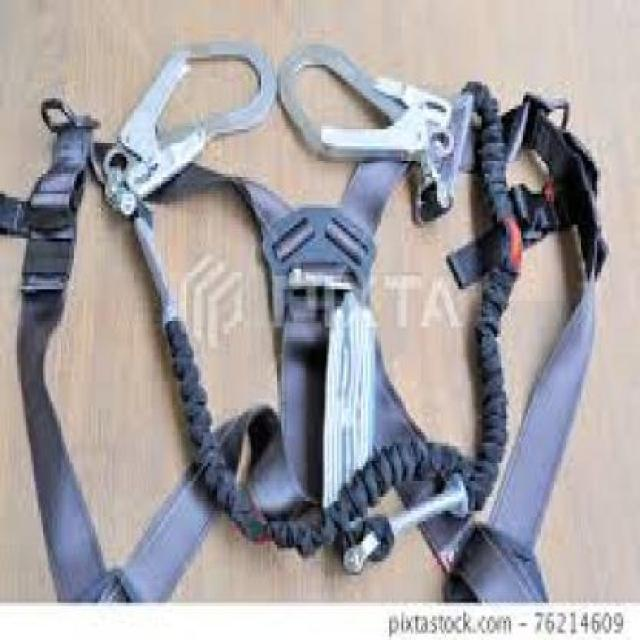Harness: (1, 1, 640, 596)
